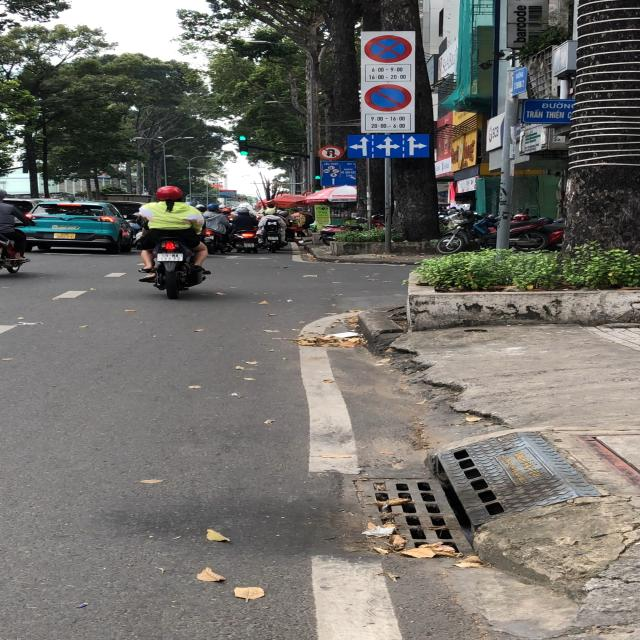Bien bao cam do xe: (364, 83, 416, 114)
Bien bao cam dung xe va do xe: (361, 33, 412, 64)
Bien bao cam quay dau xe: (315, 142, 347, 160)
